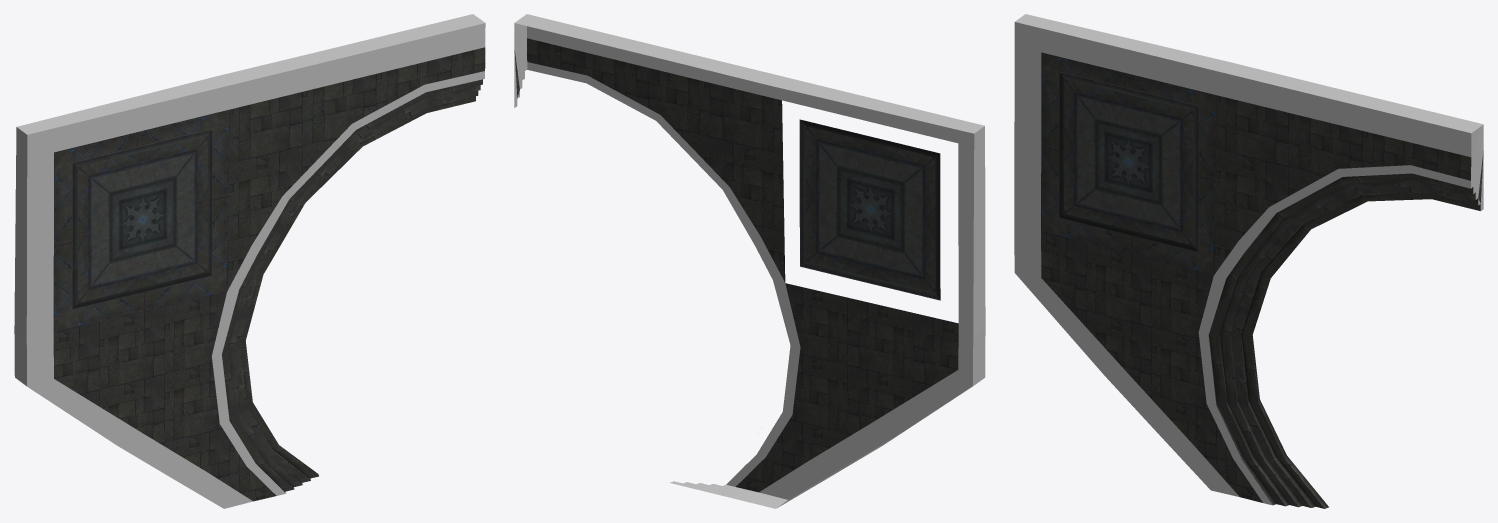
File: mingjie_yewai_340_dimian_02a.obj
3 views of the same model, side by side, from view 1: azimuth 30°, elevation 25°; view 2: azimuth 150°, elevation 25°; view 3: azimuth 330°, elevation 25° (orthographic).
Visible parts, largest first — view 1: mingjie_yewai_351_dimian_02; view 2: mingjie_yewai_351_dimian_02; view 3: mingjie_yewai_351_dimian_02.
Part boxes in pixels (bbox=[...]): mingjie_yewai_351_dimian_02: bbox=[14, 14, 485, 508]; mingjie_yewai_351_dimian_02: bbox=[514, 14, 985, 508]; mingjie_yewai_351_dimian_02: bbox=[1014, 14, 1483, 508].
Bounding box in the file's own units: 1904 × 1674 × 96.35.
